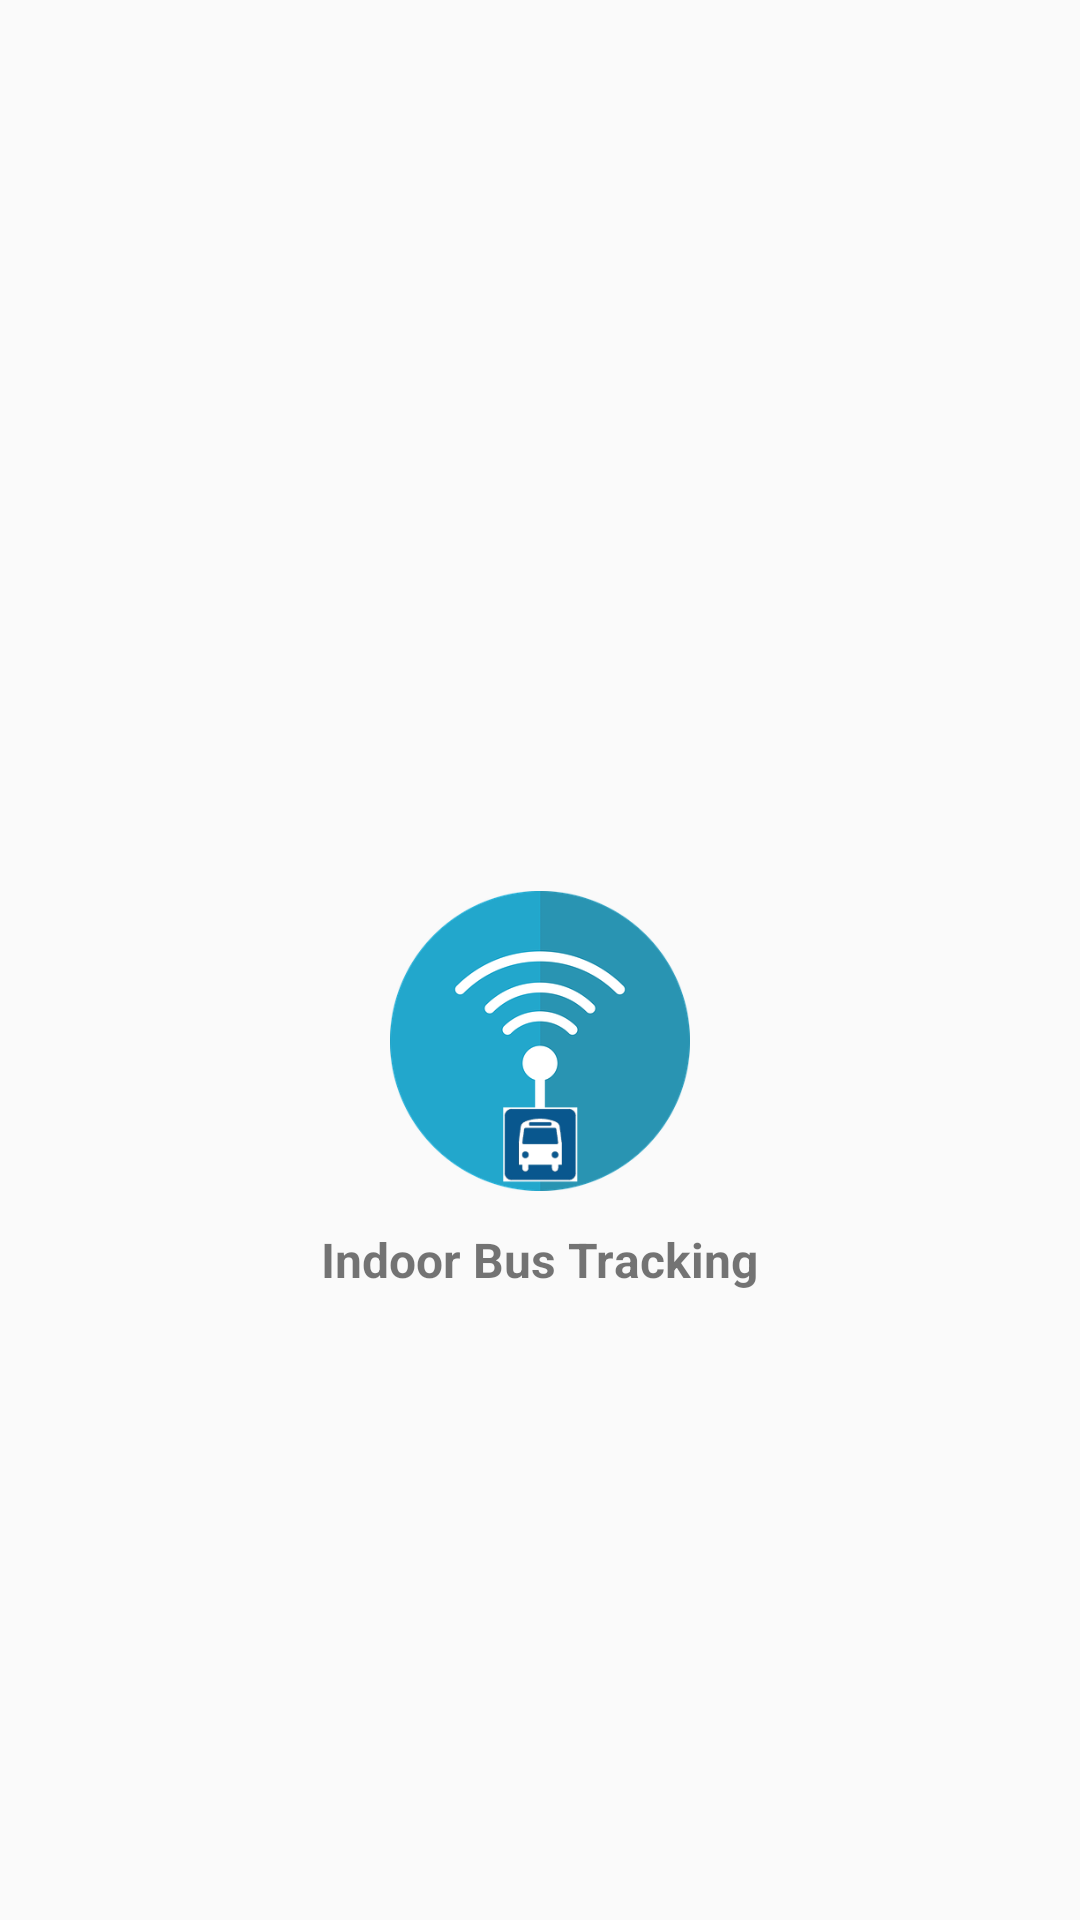

Icon bounding boxes for this 1080px x 1920px phone screenshot, format (x1, y1, x2, y2):
beacon: (390, 891, 690, 1191)
